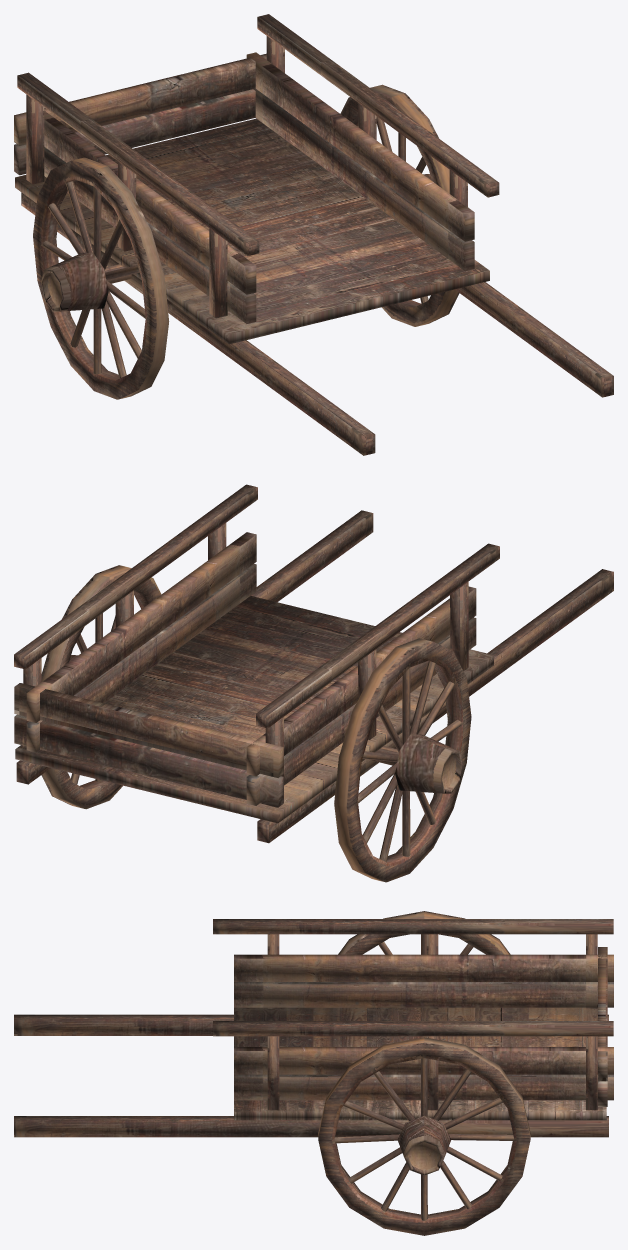
File: carreta.fbx
The picture shows the model from 3 angles, top to bottom: view 1: azimuth 30°, elevation 25°; view 2: azimuth 150°, elevation 25°; view 3: azimuth 270°, elevation 25°; orthographic projection. The views are drawn at different scales.
Parts seen in each view (by area): view 1: carreta; view 2: carreta; view 3: carreta.
Part boxes in pixels (x1,y1,x2,y2): carreta: (14, 14, 613, 455); carreta: (14, 484, 613, 882); carreta: (14, 911, 613, 1235).
Size of the model in its own units: 321 by 177 by 486.
